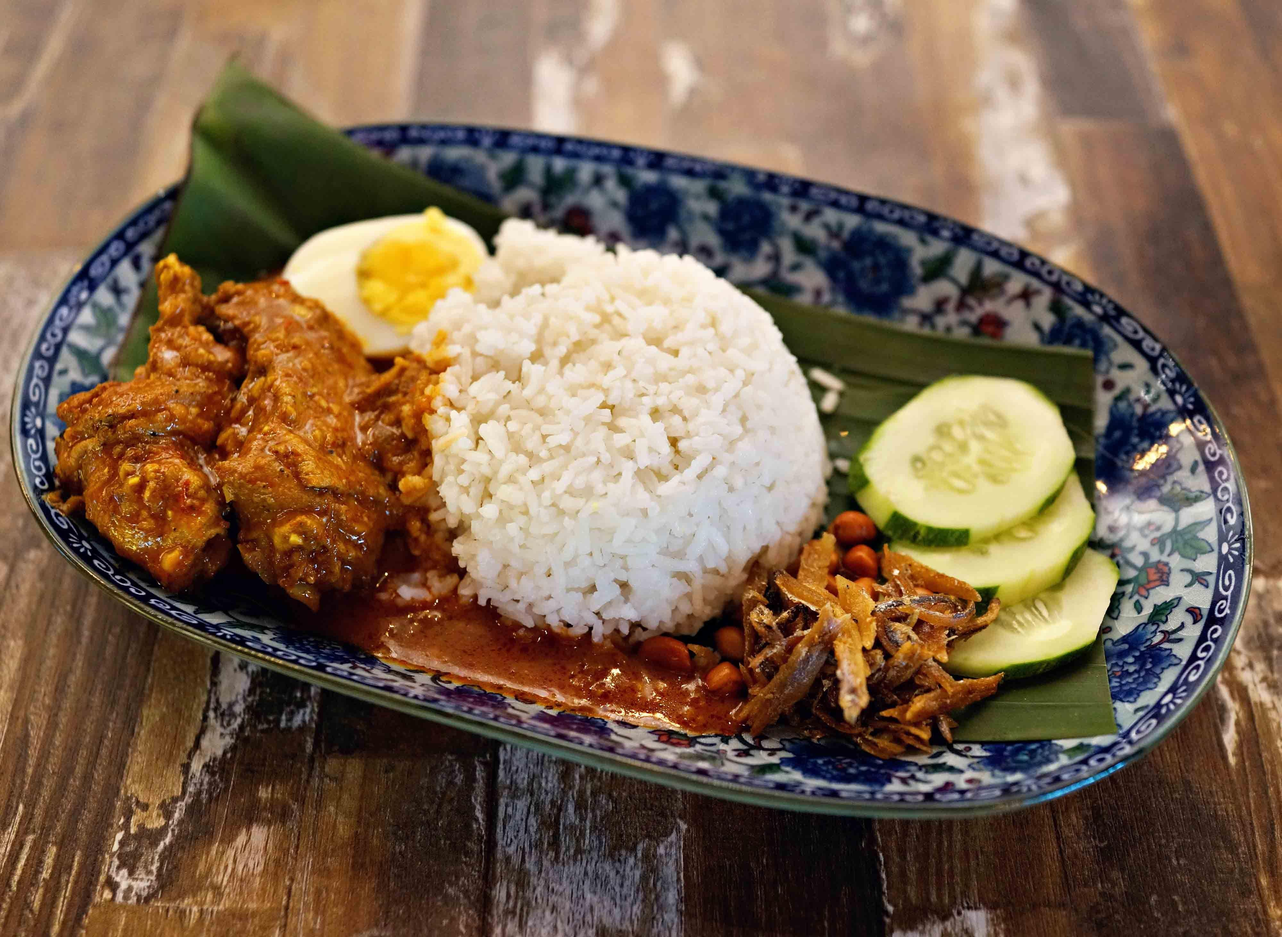Anchovies: (736, 533, 1005, 760)
Boiled-Egg: (280, 211, 489, 350)
Cucumber: (855, 377, 1120, 677)
Peanuts: (638, 626, 747, 694), (828, 511, 882, 579)
Rendang-Chicken: (67, 264, 393, 613)
Rice: (407, 219, 827, 641)
Sambal: (385, 606, 745, 737)
